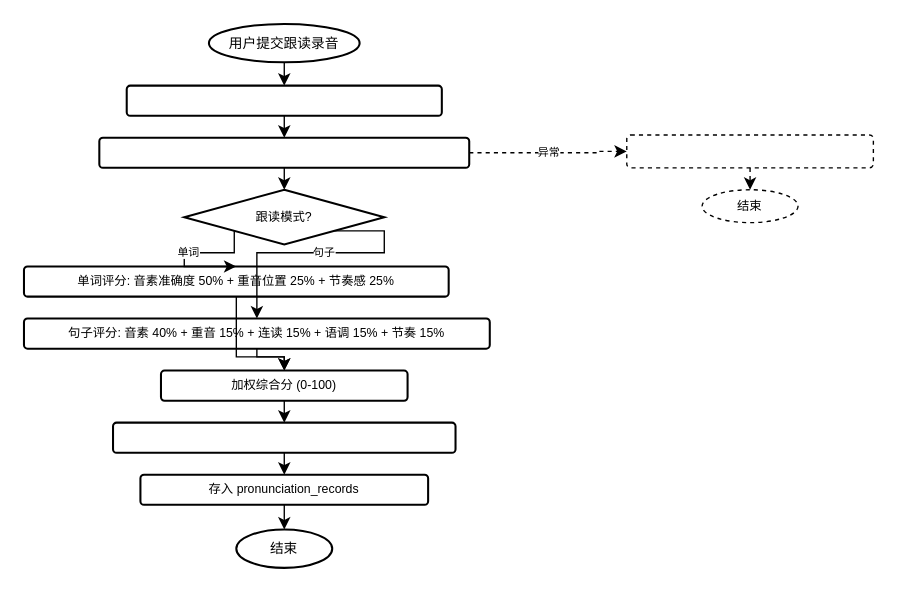
Image size: 899x593. Some labels were removed from this diagram. The shapes that lost their labels are listed below. From the top down, each one's centre as x and y in pixels, then its label:
the point at 283,100: 获取音频 + 跟读模式 (word/sentence)
the point at 284,152: Whisper 转写 + 音素级对齐 + 加载标准音标注
the point at 749,151: 低置信度: 提示「噪音较大」
the point at 283,437: 分段评级: 绿≥80 / 黄 60-79 / 红 <60
